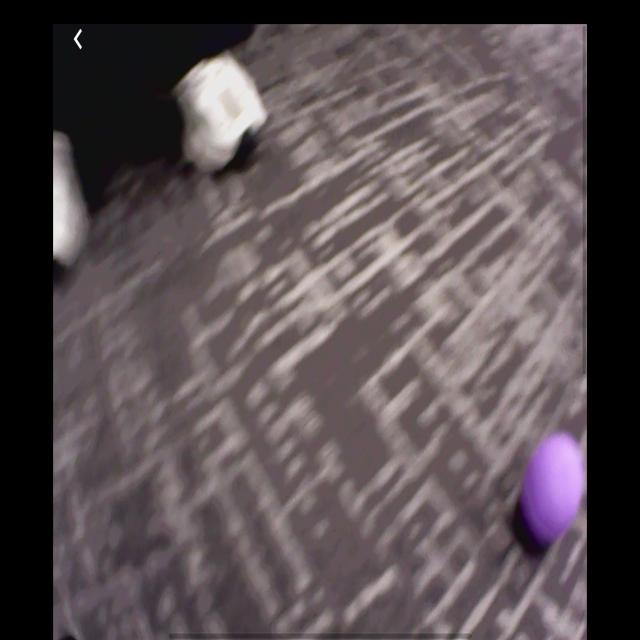ball: (522, 432, 588, 544)
